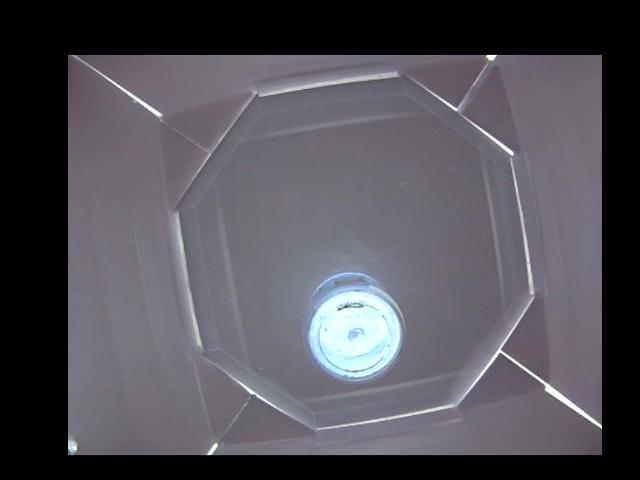Bottle: (306, 271, 405, 383)
